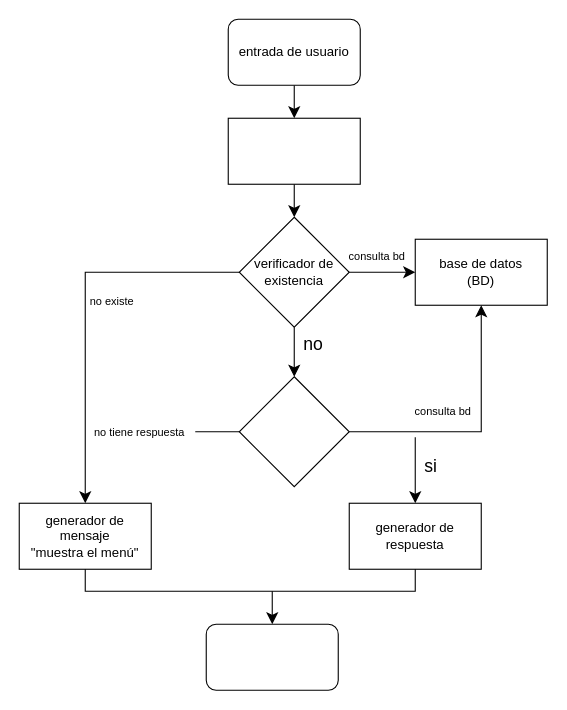
Image size: 567x710. Some labels were removed from this diagram. Each missing label, with the box of its shape:
procesador de consulta: (227, 117, 360, 184)
salida al usuario: (205, 623, 338, 690)
verificador de respuesta: (238, 376, 349, 487)
